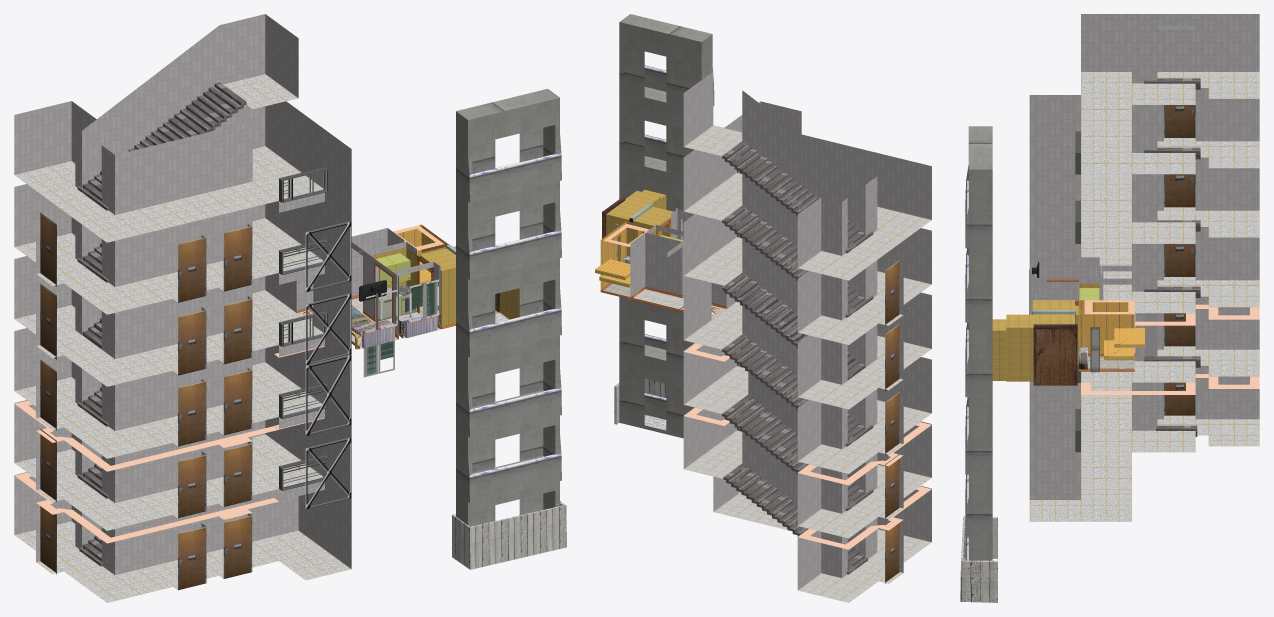
File: kp_building_insides_stairway_rappukaytava.glb
3 views of the same model, side by side, from view 1: azimuth 30°, elevation 25°; view 2: azimuth 150°, elevation 25°; view 3: azimuth 270°, elevation 25° (orthographic). The views are drawn at different scales.
Parts seen in each view (by area): view 1: stairway-top-col, stairway-bottom-col, stairway-mid-col, roomA-parveke-col, kp_balconies_col, roomA-col, roomA-parveke-col.002, roomA-parveke-seina-col, staiway-fence-col, roomA-parveke-seina-col.001, stairs-real.004, stairway-dirtA (+4 smaller); view 2: stairway-top-col, stairway-bottom-col, stairway-mid-col, roomA-parveke-col, roomA-col, roomA-parveke-seina-col, kp_balconies_col, roomA-parveke-seina-col.001, stairs-real.001, stairs-real.004, stairs-real.002, stairs-real.005 (+6 smaller); view 3: stairway-top-col, stairway-bottom-col, stairway-mid-col, roomA-col, roomA-parveke-col, kp_balconies_col, Plane.007, roomA-parveke-col.002, stairway-dirtA, stairway-dirtB, staiway-fence-col, Cube.001-col.001 (+1 smaller).
Part boxes in pixels (box(x1,y1,x2,y2)): stairway-top-col: box(14, 14, 351, 314); stairway-bottom-col: box(14, 212, 351, 602); stairway-mid-col: box(14, 201, 351, 458); roomA-parveke-col: box(456, 89, 561, 357); kp_balconies_col: box(456, 335, 561, 526); roomA-col: box(296, 224, 519, 349); roomA-parveke-col.002: box(452, 501, 566, 569); roomA-parveke-seina-col: box(472, 128, 543, 328); staiway-fence-col: box(279, 167, 327, 490); roomA-parveke-seina-col.001: box(472, 362, 543, 526); stairs-real.004: box(77, 82, 246, 210); stairway-dirtA: box(15, 418, 324, 543); stairway-top-col: box(683, 72, 931, 344); stairway-bottom-col: box(683, 260, 931, 602); stairway-mid-col: box(683, 214, 931, 473); roomA-parveke-col: box(619, 14, 714, 198); roomA-col: box(600, 190, 726, 319); roomA-parveke-seina-col: box(623, 44, 697, 221); kp_balconies_col: box(619, 297, 683, 438); roomA-parveke-seina-col.001: box(623, 300, 694, 435); stairs-real.001: box(722, 395, 873, 510); stairs-real.004: box(722, 141, 873, 253); stairs-real.002: box(722, 334, 873, 446); stairs-real.005: box(722, 206, 873, 317); stairway-top-col: box(1029, 14, 1259, 243); stairway-bottom-col: box(1029, 105, 1259, 521); stairway-mid-col: box(1029, 157, 1259, 382); roomA-col: box(992, 257, 1135, 381); roomA-parveke-col: box(965, 126, 992, 397); kp_balconies_col: box(965, 396, 992, 560); Plane.007: box(1033, 324, 1077, 385); roomA-parveke-col.002: box(960, 516, 997, 602); stairway-dirtA: box(1081, 374, 1259, 394); stairway-dirtB: box(1135, 296, 1259, 325); staiway-fence-col: box(1075, 131, 1080, 452); Cube.001-col.001: box(1114, 328, 1144, 347).
Bounding box in the file's own units: 19.96 × 22.98 × 13.11.
39 materials, 33 textured.
